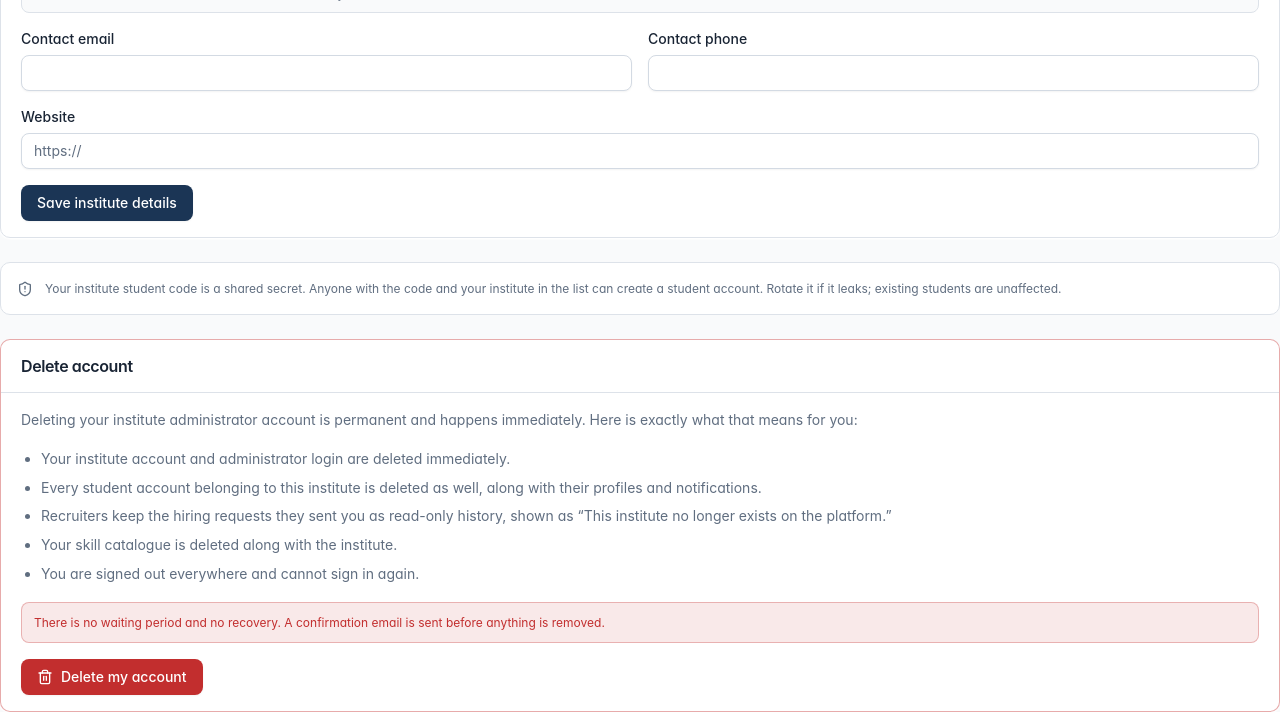
Scenario: delete account settings › warns institute administrators that student accounts go too
(page scrolled)
expect the list item "Every student account belonging to this institute is deleted" is shown: met, box [41,478,762,496]
Click the button "Delete my account".
click(112, 677)  # box [21,659,202,695]
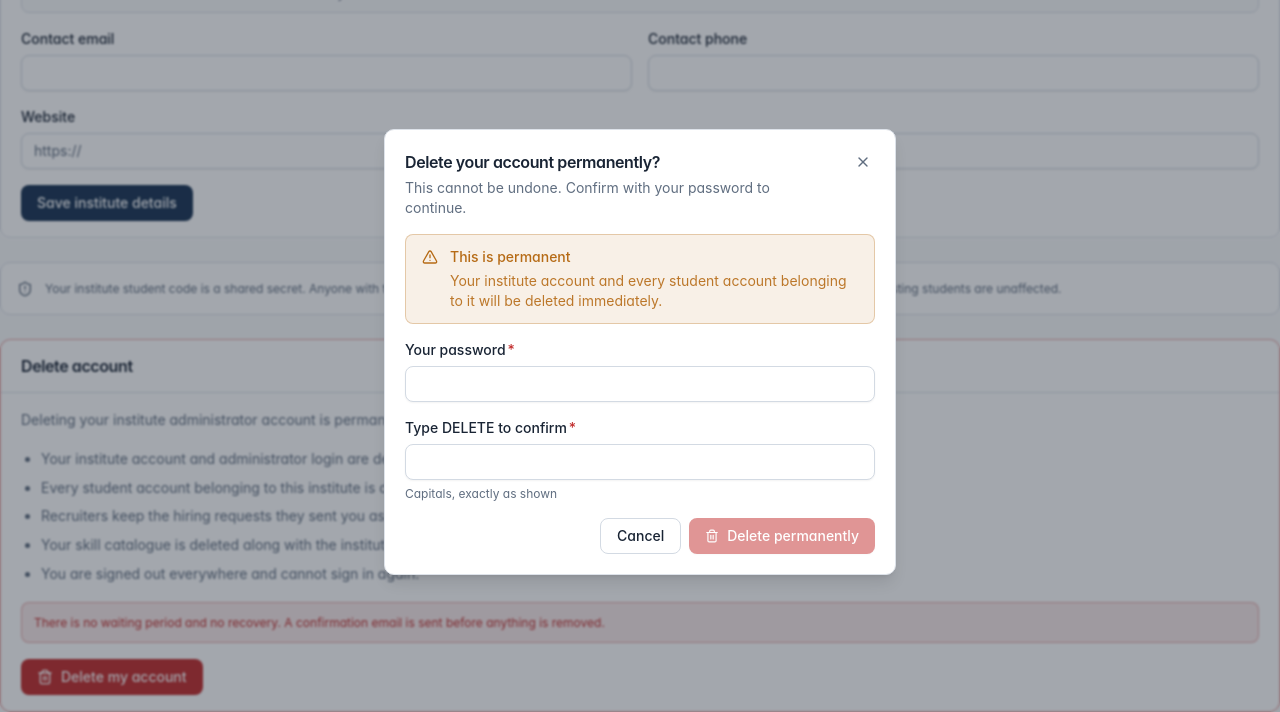
expect the text "every student account belonging to it" is shown: met, box [450,272,846,309]
